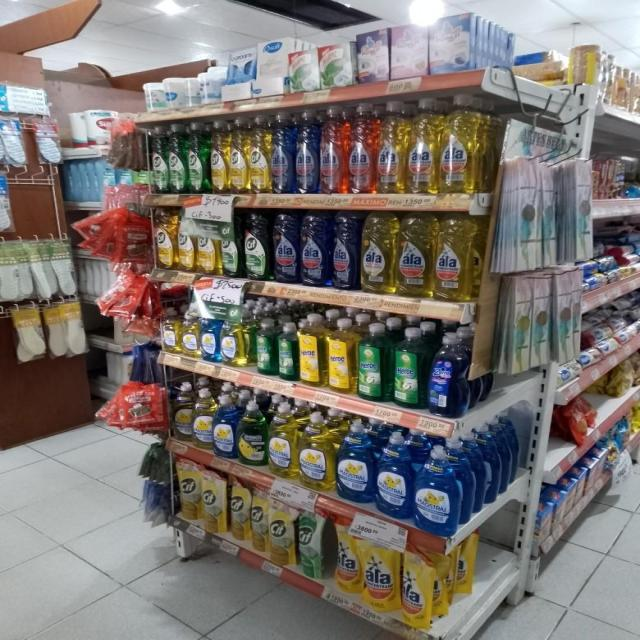ala_conc_amarillo: (439, 94, 482, 196), (434, 212, 478, 301), (397, 212, 433, 298), (406, 98, 438, 194), (361, 211, 395, 295), (376, 100, 405, 195)
ala_conc_azul: (300, 210, 330, 287), (331, 211, 359, 291), (294, 109, 318, 194), (272, 210, 299, 284), (272, 111, 294, 194)
ala_conc_rojo: (348, 102, 375, 195), (319, 106, 346, 194)
ala_sachet_amarillo: (363, 538, 399, 612), (402, 551, 432, 628), (334, 523, 362, 595)
cif_conc_bot_amarilla: (248, 115, 270, 194), (152, 208, 175, 271), (230, 117, 248, 194), (197, 210, 218, 276), (210, 120, 228, 194), (177, 209, 196, 273)
cif_conc_botella_verde: (243, 210, 271, 281), (187, 121, 208, 194), (168, 123, 186, 194), (150, 124, 168, 194)
cif_conc_sachet_amarillo: (268, 499, 294, 566), (251, 488, 267, 554)
cif_conc_sachet_verde: (296, 508, 328, 580)
magistral_con_amarillo: (299, 411, 334, 491), (268, 402, 297, 478), (220, 319, 250, 367), (193, 387, 212, 451), (172, 383, 192, 442), (160, 307, 179, 353), (180, 313, 199, 358)
magistral_con_azul: (414, 444, 461, 534), (376, 430, 411, 518), (337, 421, 374, 504), (238, 400, 266, 466), (214, 394, 236, 459), (200, 316, 219, 362)
